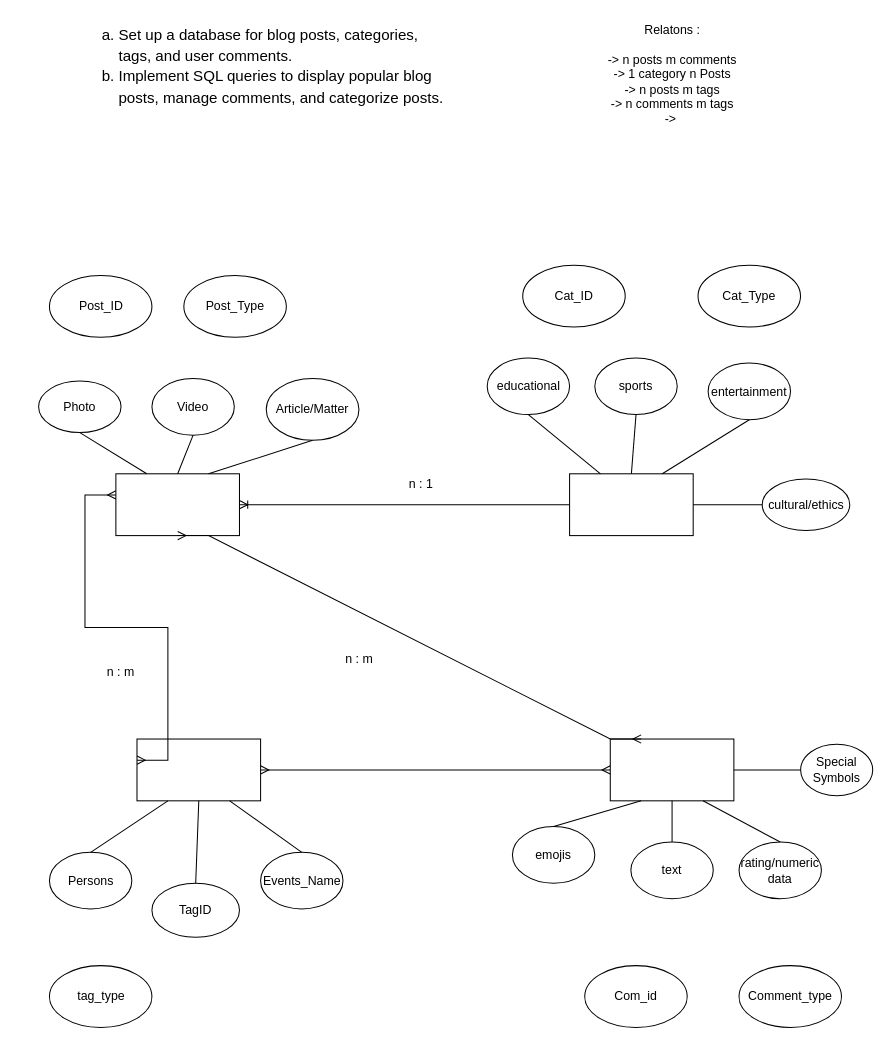
Image size: 891x1045. Some labels were removed from this diagram. Here are the shapes that lost their labels. From the top down, the centre of each, then its label:
point 177,504: Post
point 631,504: Category
point 198,769: Tag
point 671,769: User Comments
